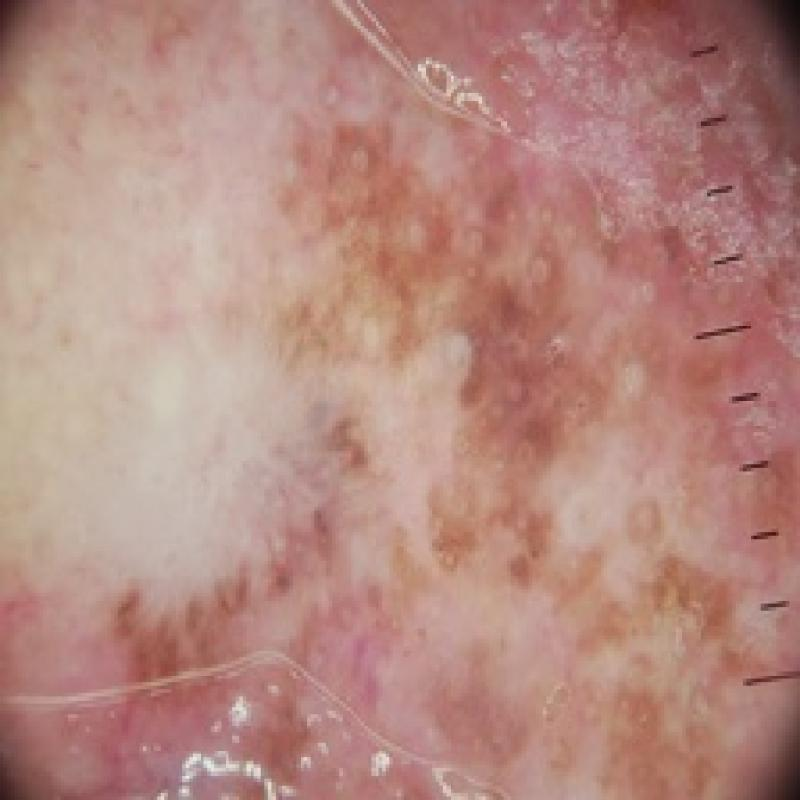malignant: (2, 0, 800, 800), (287, 0, 800, 450), (0, 466, 595, 800)
